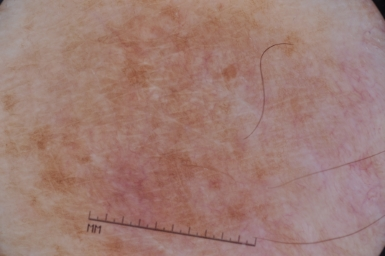seborrheic keratosis: (83, 58, 248, 215)
